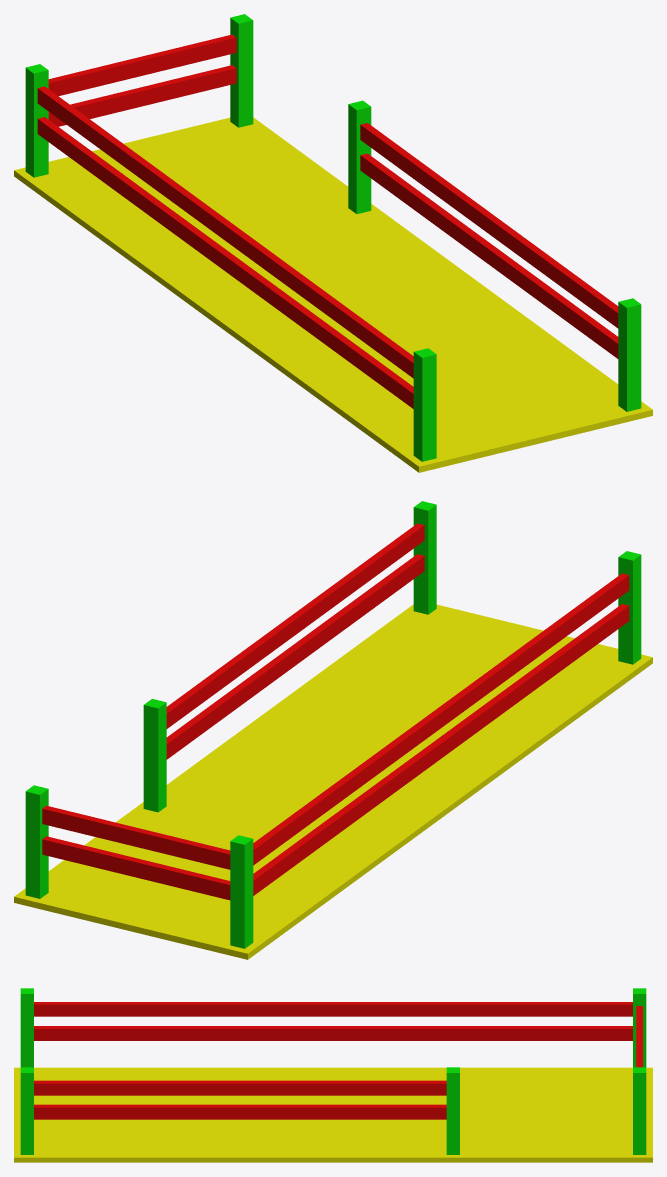
Rendered from WalkwayE_SM.fbx.
3 views of the same model, one above another, from view 1: azimuth 30°, elevation 25°; view 2: azimuth 150°, elevation 25°; view 3: azimuth 270°, elevation 25° (orthographic). The views are drawn at different scales.
Parts seen in each view (by area): view 1: polySurface20; view 2: polySurface20; view 3: polySurface20.
Boxes of the visible parts, box(x1,y1,x2,y2) form: polySurface20: box(14, 14, 652, 472); polySurface20: box(14, 501, 652, 959); polySurface20: box(14, 988, 652, 1162).
Size of the model in its own units: 8 by 3.6 by 24.
